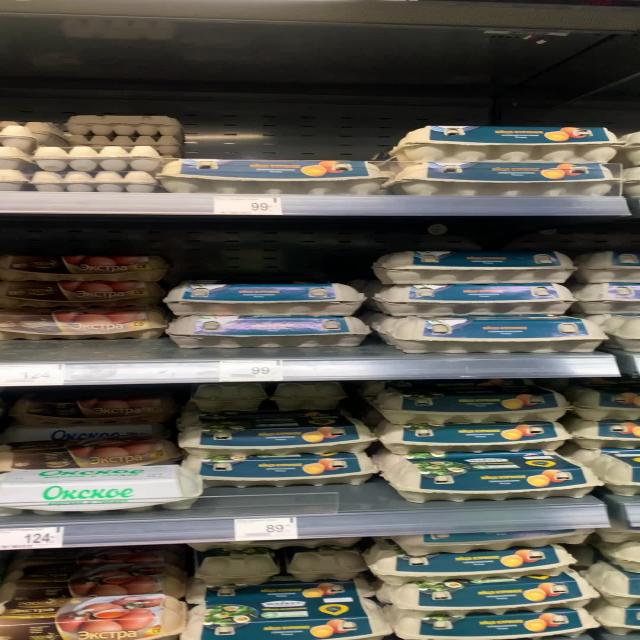egg box: (372, 568, 600, 619), (0, 465, 201, 515), (362, 542, 576, 584), (159, 157, 389, 195), (381, 459, 593, 500), (386, 161, 621, 197), (376, 317, 610, 353), (386, 126, 626, 160), (375, 388, 576, 424), (165, 283, 366, 318), (186, 604, 392, 638), (371, 282, 576, 316), (166, 315, 371, 348), (0, 568, 194, 602), (372, 252, 577, 284), (180, 455, 378, 487), (387, 610, 598, 639), (179, 426, 380, 456), (374, 423, 572, 452), (0, 311, 167, 342), (0, 599, 188, 626), (0, 254, 168, 283), (0, 441, 183, 466), (0, 282, 168, 309)
